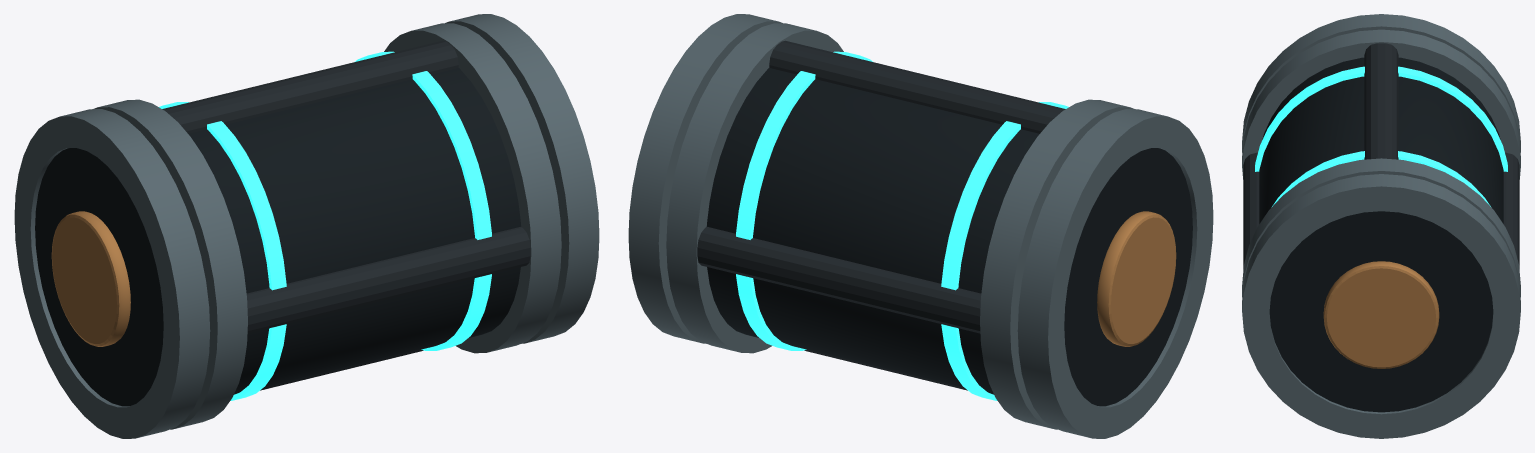
File: power_cell.glb
The picture shows the model from 3 angles, left to right: view 1: azimuth 30°, elevation 25°; view 2: azimuth 150°, elevation 25°; view 3: azimuth 270°, elevation 25°; orthographic projection. The views are drawn at different scales.
Parts seen in each view (by area): view 1: CellCore, CellCage.003, CellCage.002, CellArmorRail, CellEnergyRing.001, CellArmorRail.001, CellTerminal.001; view 2: CellCore, CellCage.003, CellCage.002, CellArmorRail.002, CellEnergyRing.001, CellArmorRail.001, CellTerminal.001; view 3: CellCore, CellCage.003, CellCage.002, CellTerminal.001, CellEnergyRing.001, CellArmorRail.001, CellArmorRail, CellArmorRail.002.
Boxes of the visible parts, bbox=[...] form: CellCore: bbox=[35, 68, 521, 406]; CellCage.003: bbox=[14, 14, 599, 438]; CellCage.002: bbox=[94, 23, 561, 429]; CellArmorRail: bbox=[246, 227, 530, 333]; CellEnergyRing.001: bbox=[159, 51, 491, 400]; CellArmorRail.001: bbox=[162, 40, 458, 133]; CellTerminal.001: bbox=[51, 211, 130, 346]; CellCore: bbox=[706, 68, 1192, 406]; CellCage.003: bbox=[628, 14, 1213, 438]; CellCage.002: bbox=[666, 23, 1133, 429]; CellArmorRail.002: bbox=[697, 227, 981, 333]; CellEnergyRing.001: bbox=[736, 51, 1068, 400]; CellArmorRail.001: bbox=[769, 40, 1065, 133]; CellTerminal.001: bbox=[1097, 211, 1176, 346]; CellCore: bbox=[1259, 57, 1503, 412]; CellCage.003: bbox=[1242, 14, 1520, 438]; CellCage.002: bbox=[1242, 29, 1520, 296]; CellTerminal.001: bbox=[1323, 261, 1439, 368]; CellEnergyRing.001: bbox=[1255, 66, 1507, 207]; CellArmorRail.001: bbox=[1364, 43, 1398, 159]; CellArmorRail: bbox=[1243, 152, 1259, 268]; CellArmorRail.002: bbox=[1503, 152, 1519, 268].
Size of the model in its own units: 0.823 by 0.53 by 0.53.
